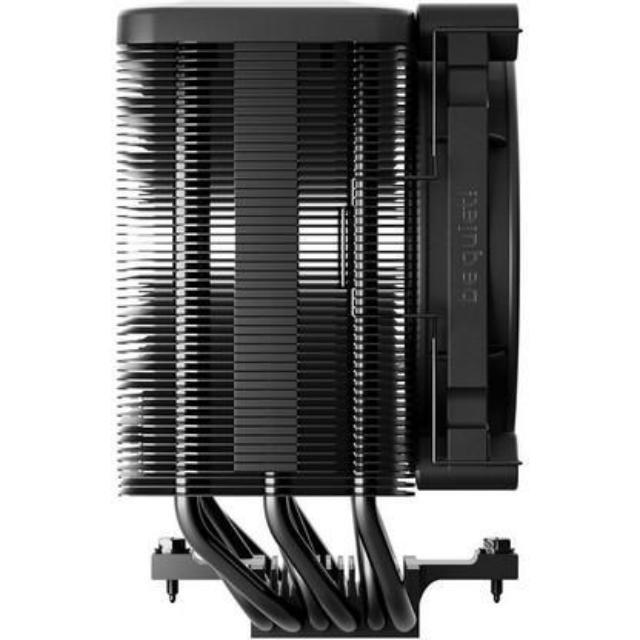CPU_Fan: (110, 4, 524, 638)
